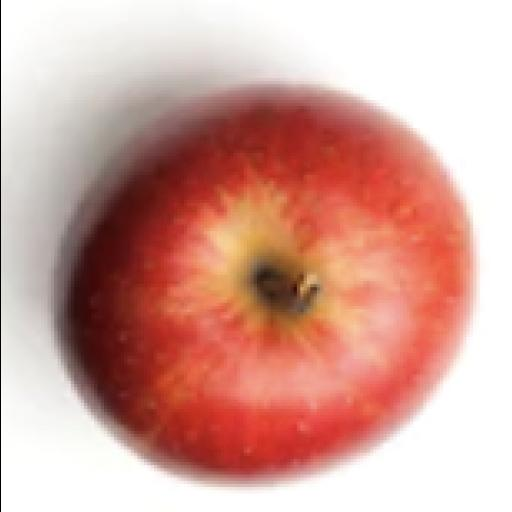apple: (70, 87, 472, 482)
